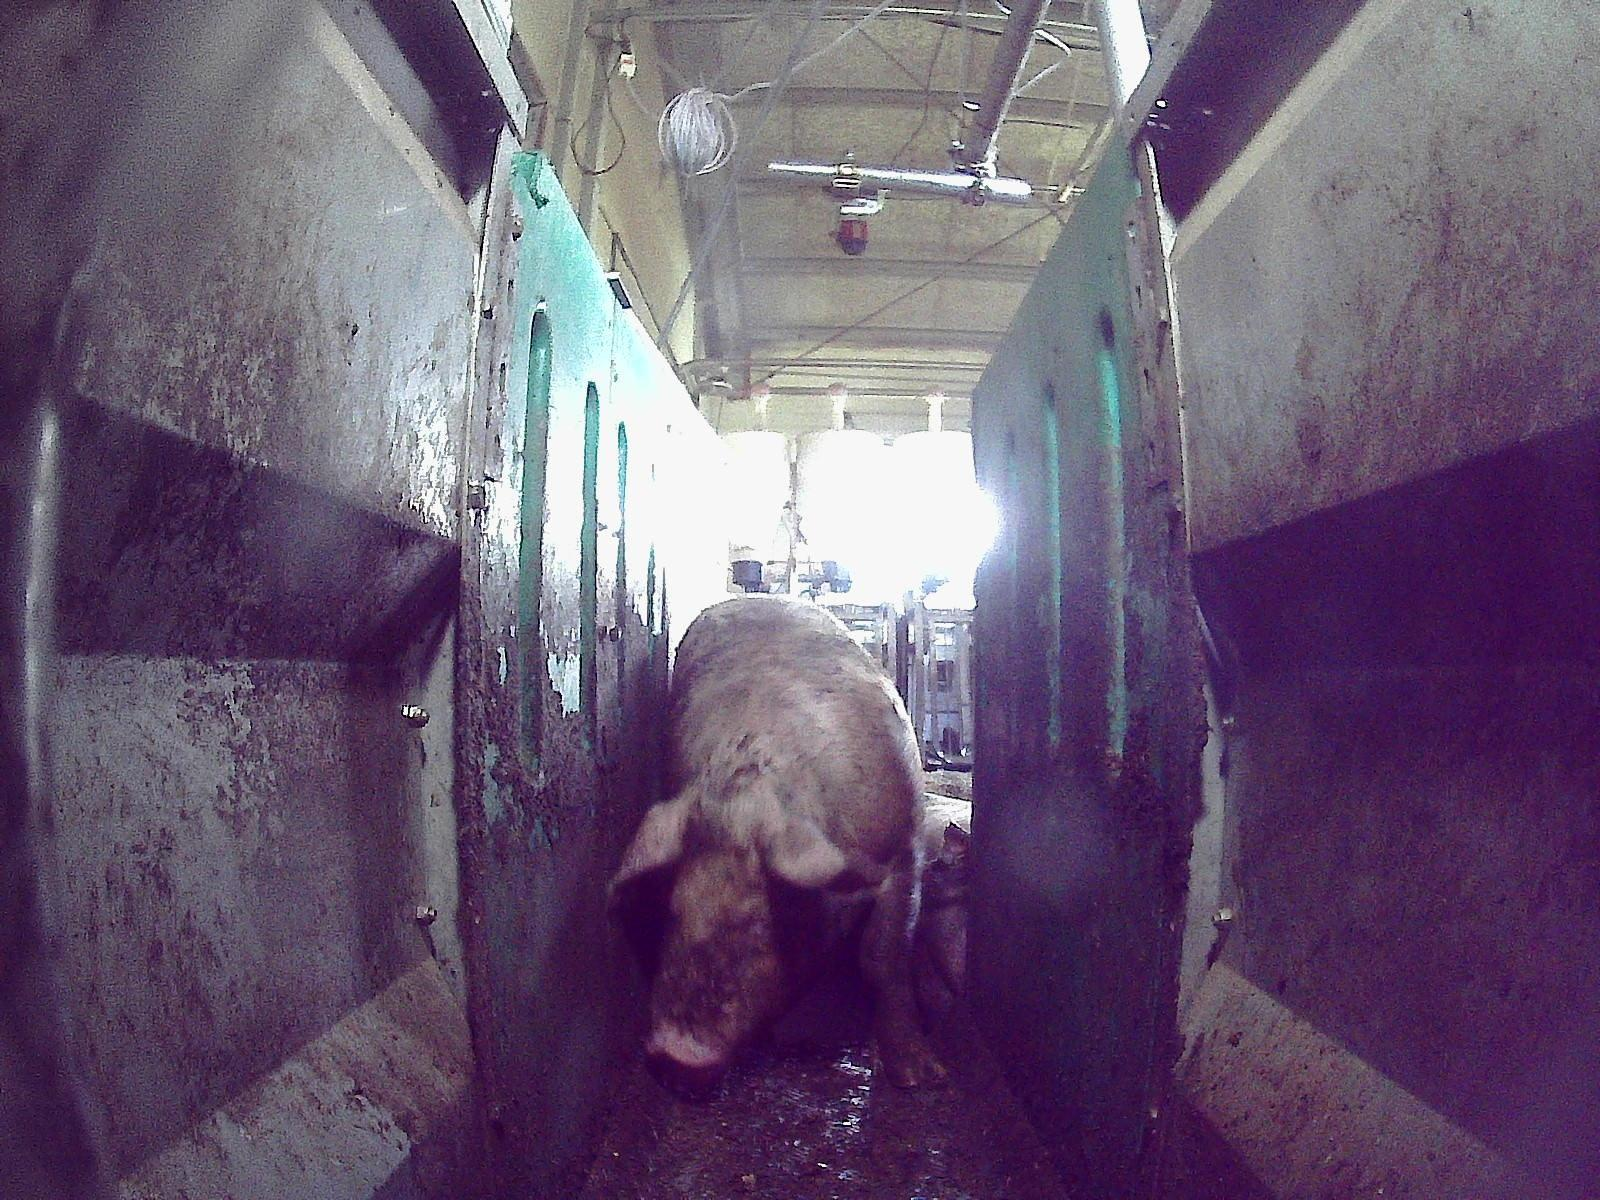Face: (642, 796, 811, 1090)
